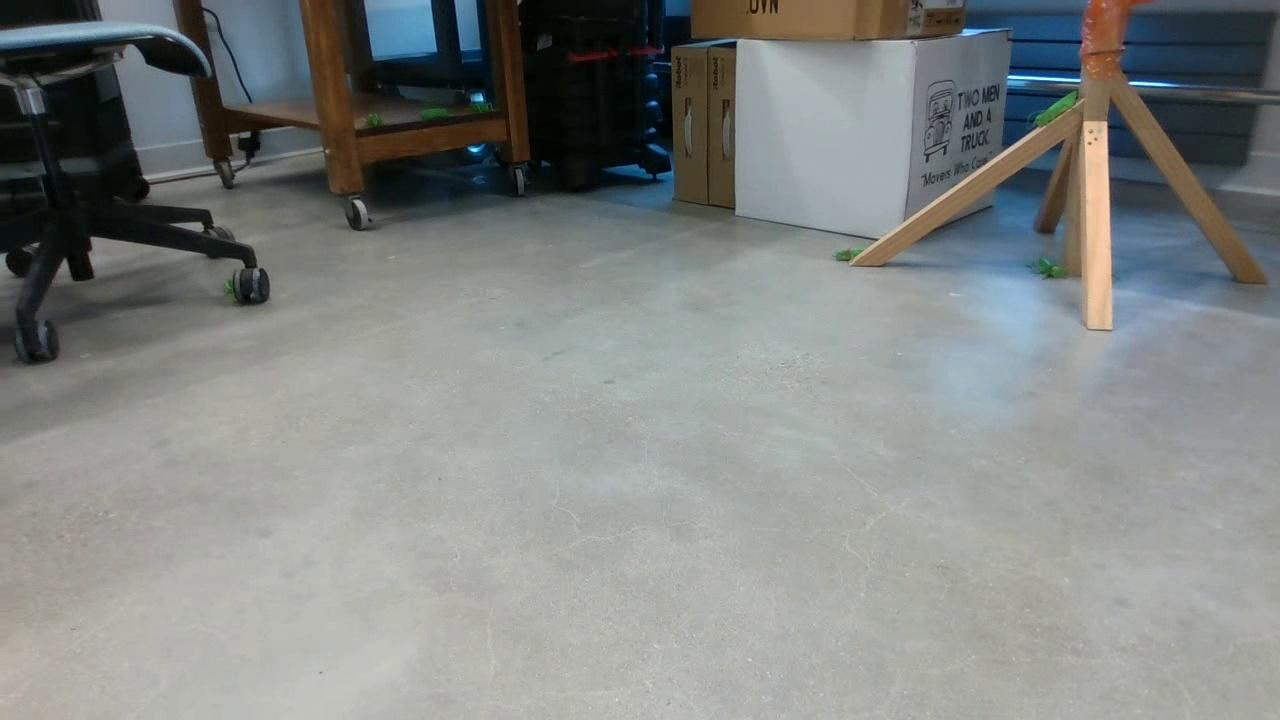grasshopper: (1023, 76, 1075, 144), (825, 240, 882, 271), (1020, 245, 1058, 286), (358, 104, 390, 130), (466, 95, 500, 115), (410, 104, 453, 119)
